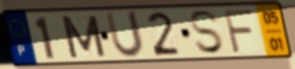1: (34, 15, 57, 61)
2: (145, 10, 184, 59)
F: (222, 9, 257, 56)
M: (58, 14, 108, 60)
S: (187, 9, 227, 56)
U: (103, 9, 147, 61)
